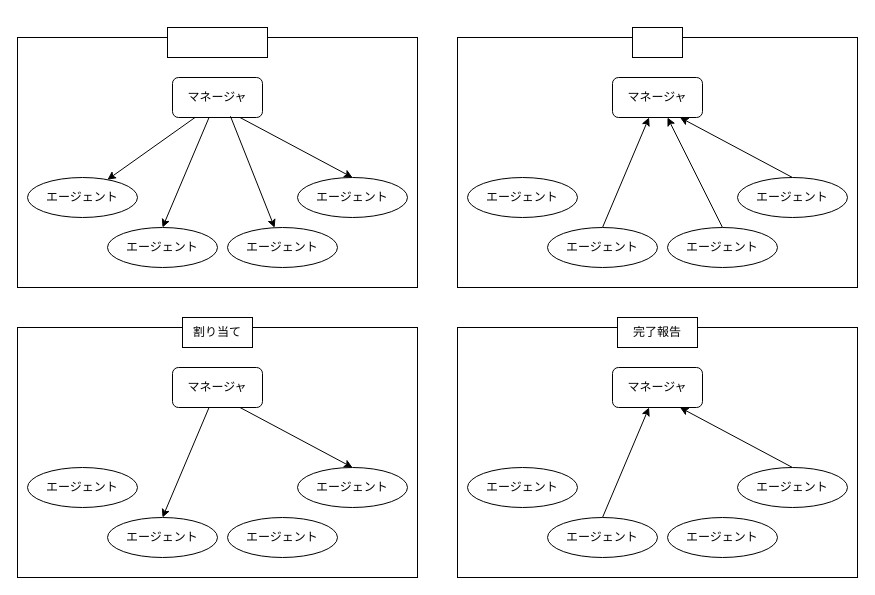
Image size: 875x595. Some labels were removed from this diagram. Each missing label, with the box of its shape:
タスクの広報: (166, 26, 268, 58)
入札: (632, 26, 682, 58)
